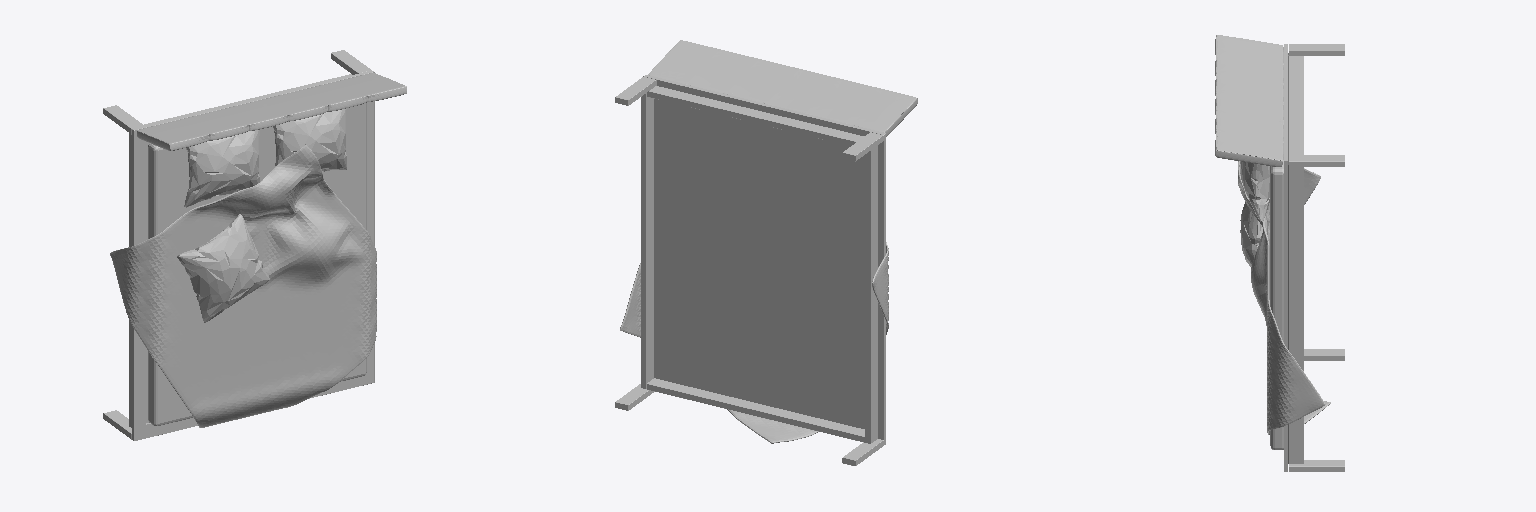
File: bed3.obj
3 views of the same model, side by side, from view 1: azimuth 30°, elevation 25°; view 2: azimuth 150°, elevation 25°; view 3: azimuth 270°, elevation 25° (orthographic).
Visible parts, largest first — view 1: Object02; view 2: Object02; view 3: Object02.
Part boxes in pixels (bbox=[...]): Object02: bbox=[103, 50, 406, 440]; Object02: bbox=[615, 40, 917, 465]; Object02: bbox=[1215, 35, 1344, 471].
Bounding box in the file's own units: 1881 × 2346 × 841.